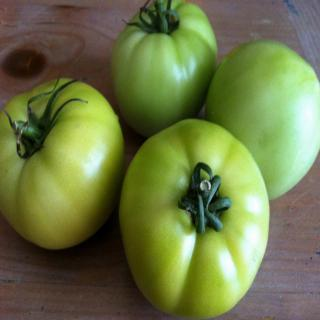tomato: (120, 115, 267, 320), (0, 73, 127, 250), (206, 38, 320, 201), (112, 0, 218, 135)
